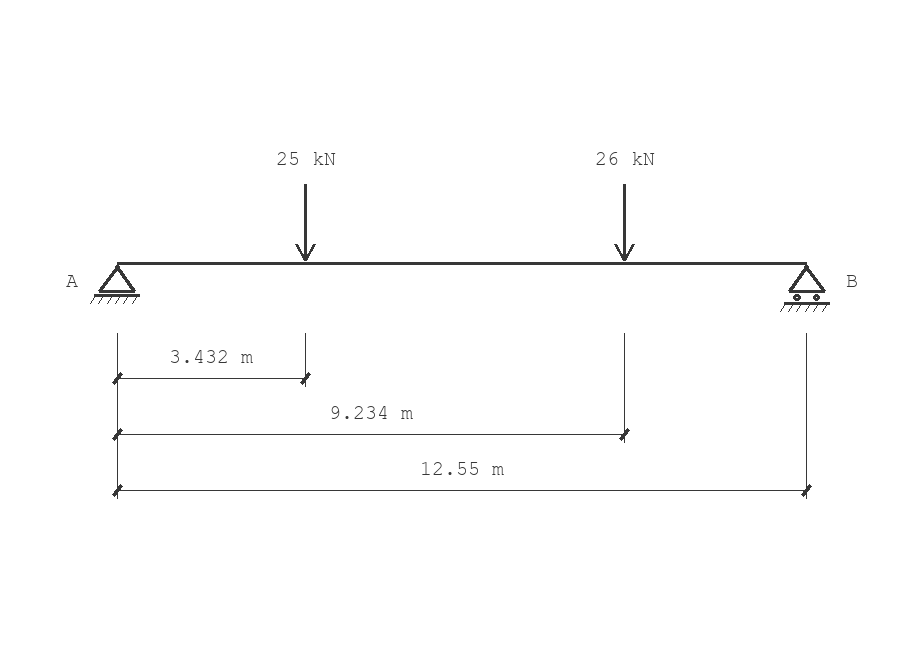pin_support: (90, 265, 140, 304)
point_load: (295, 184, 316, 261), (614, 184, 635, 261)
roller_support: (780, 265, 830, 312)
